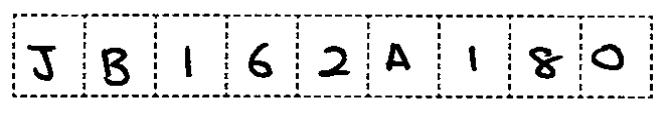0: (588, 39, 628, 74)
1: (172, 40, 202, 84), (455, 40, 489, 74)
2: (311, 43, 354, 82)
6: (240, 38, 281, 82)
8: (523, 42, 569, 82)
A: (378, 39, 416, 76)
B: (94, 41, 136, 91)
J: (22, 39, 62, 86)
